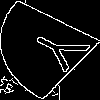Y: (24, 25, 100, 79)
